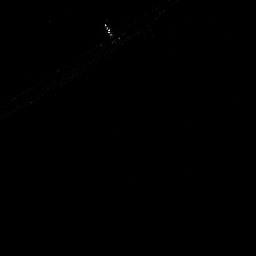ship: (103, 21, 121, 46)
